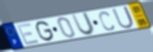0: (57, 16, 77, 39)
C: (98, 11, 116, 32)
E: (16, 22, 42, 46)
G: (35, 20, 56, 43)
U: (71, 11, 97, 36), (111, 5, 135, 30)
